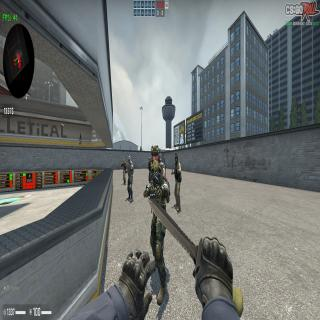CT-Body: (145, 144, 168, 305), (171, 153, 183, 213), (126, 156, 134, 203), (147, 157, 152, 186)
CT-Head: (150, 144, 160, 172), (174, 153, 178, 166), (128, 155, 132, 165), (148, 157, 150, 163)
T-Body: (121, 159, 127, 185)
T-Head: (123, 158, 125, 163)
